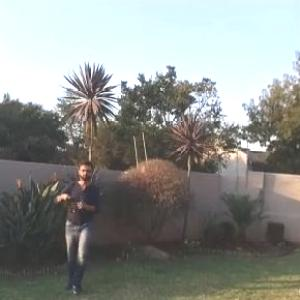follow: (47, 154, 106, 299)
